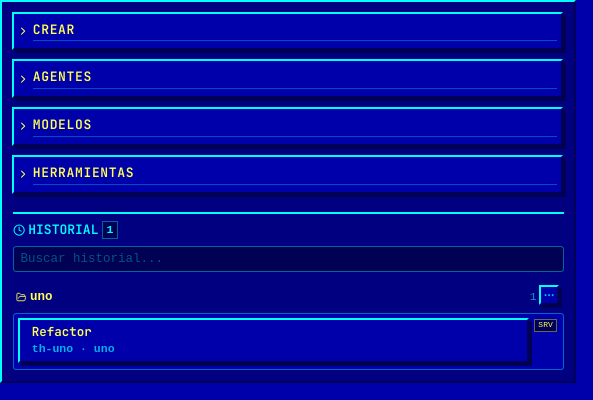
Test: Sidebar (panel lateral agrupado) › copia la ruta local del proyecto desde su menú
Click the button named "Opciones del proyecto uno" at [549, 295], box [539, 285, 559, 305]
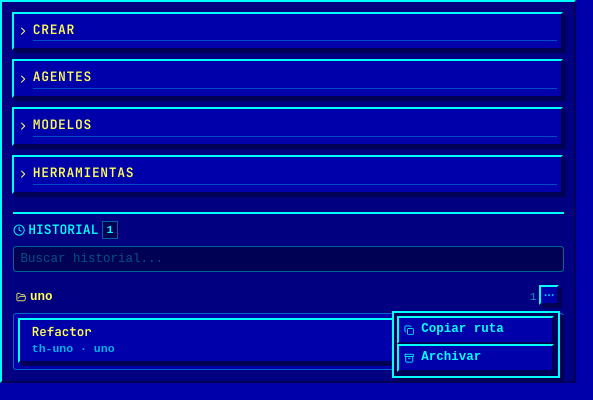
Click the menu item "Copiar ruta" at [475, 330], box [396, 316, 554, 344]
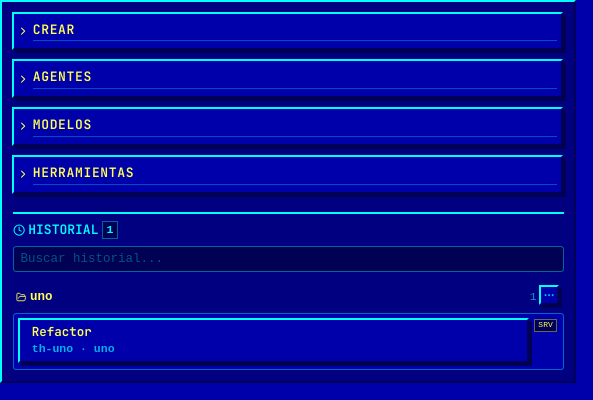
Expected: the menu is gone
